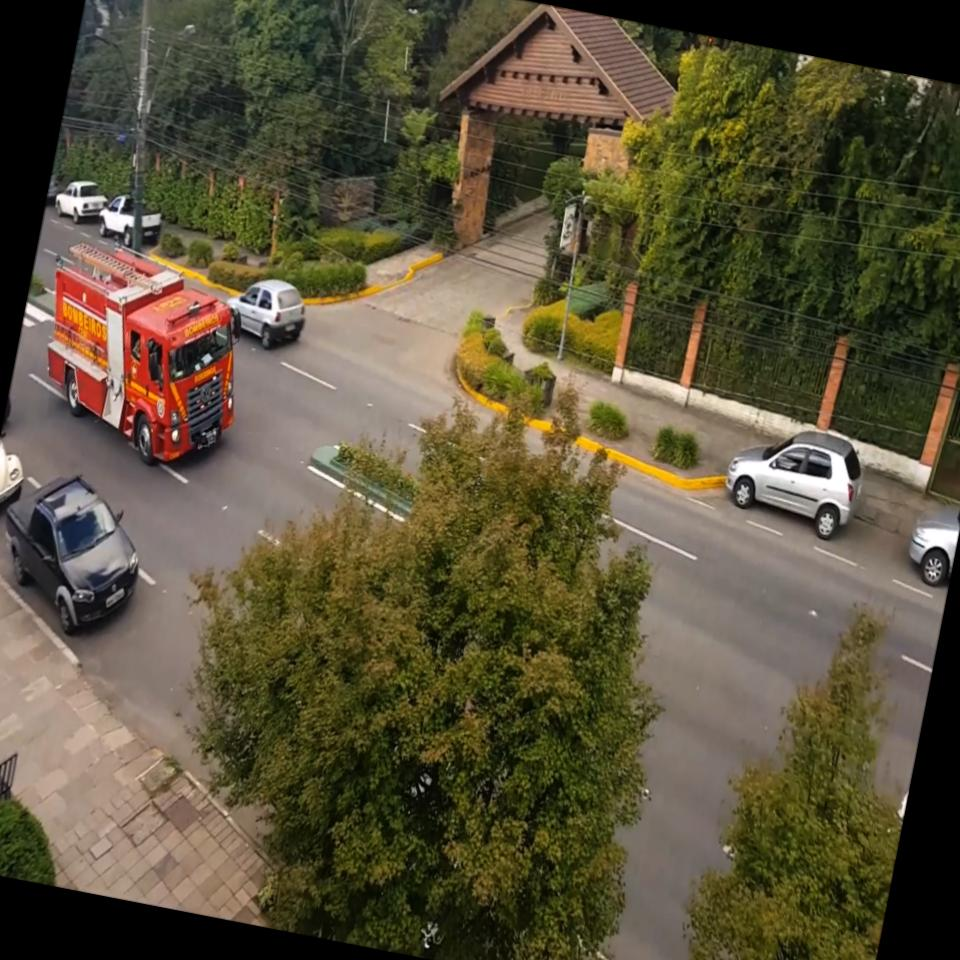viatura: (20, 223, 263, 478)
